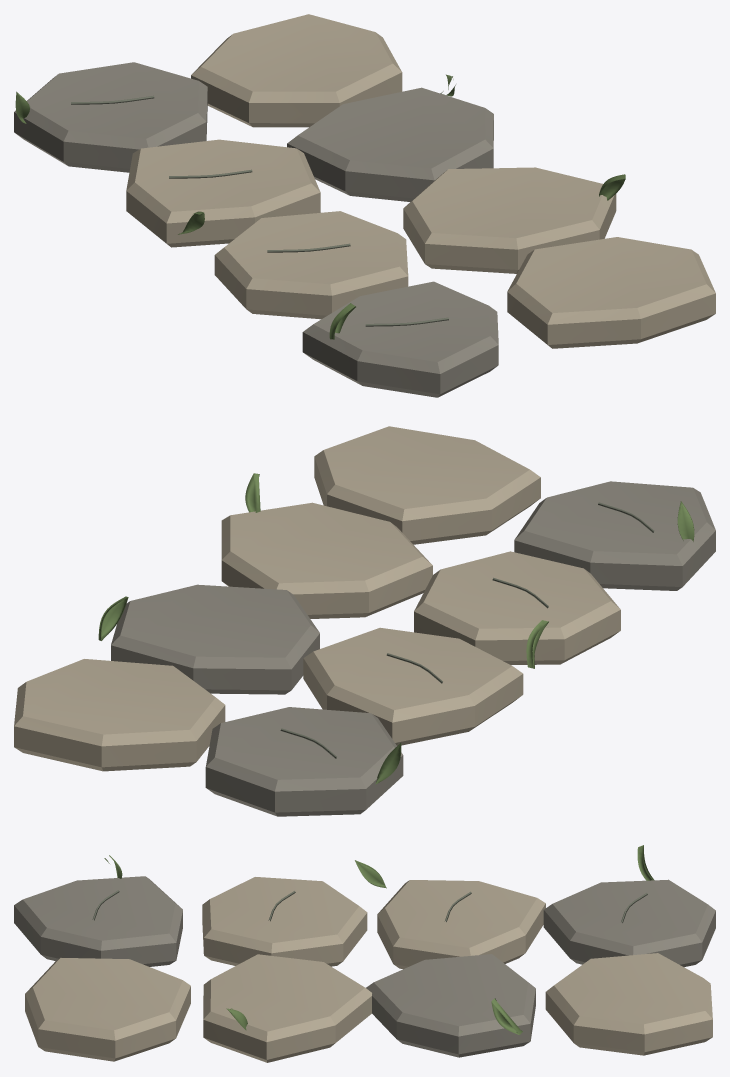
The model's file is sendero_piedra.glb.
3 views of the same model, one above another, from view 1: azimuth 30°, elevation 25°; view 2: azimuth 150°, elevation 25°; view 3: azimuth 270°, elevation 25° (orthographic). The views are drawn at different scales.
Visible parts, largest first — view 1: sendero_piedra; view 2: sendero_piedra; view 3: sendero_piedra.
Part boxes in pixels (left/top/right/bottom): sendero_piedra: left=14, top=14, right=715, bottom=397; sendero_piedra: left=14, top=426, right=715, bottom=816; sendero_piedra: left=14, top=845, right=715, bottom=1062.
Bounding box in the file's own units: 1.15 × 0.1939 × 2.07.
